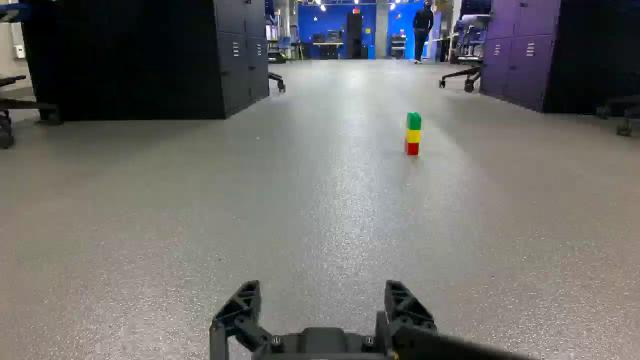lego: (406, 113, 420, 151)
